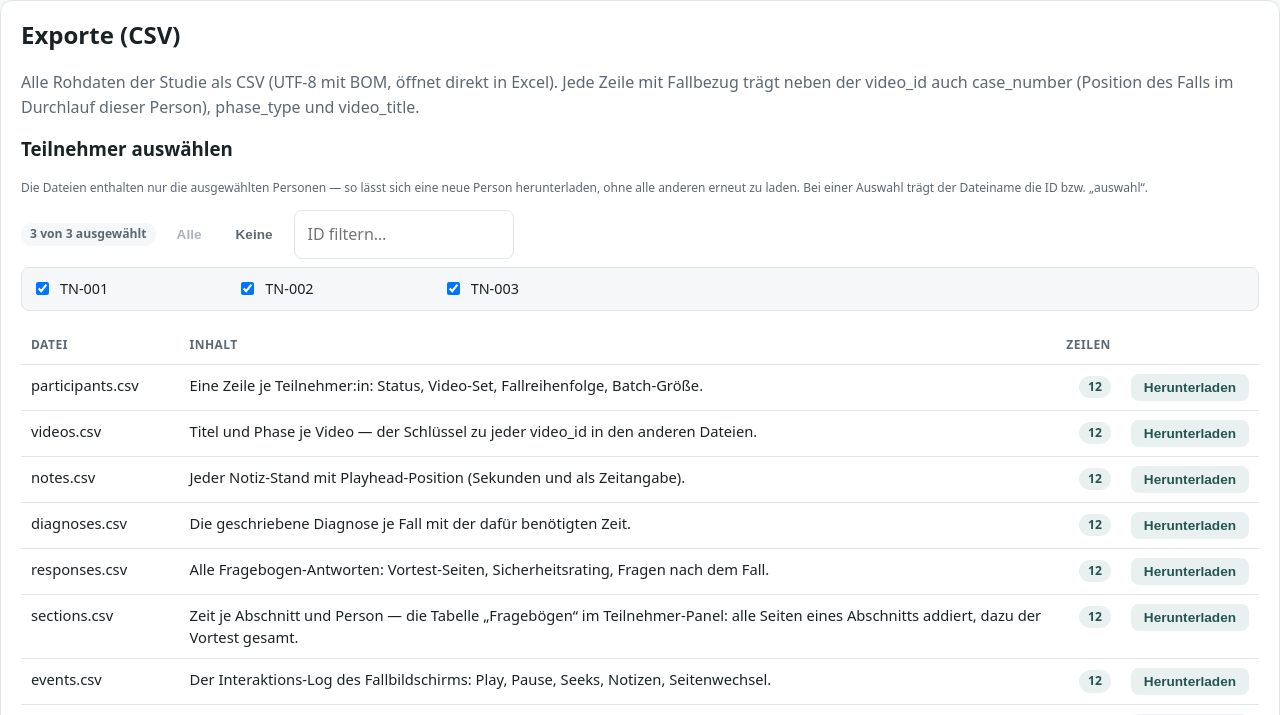
Test case: the id filter narrows the list without changing the selection
The width and height of the screenshot is (1280, 715).
Expected: the checkbox labelled "TN-003" is checked, [447, 282, 460, 295]
Type "003" into the field named "Teilnehmer-IDs filtern" at [404, 234], box [294, 210, 514, 259]
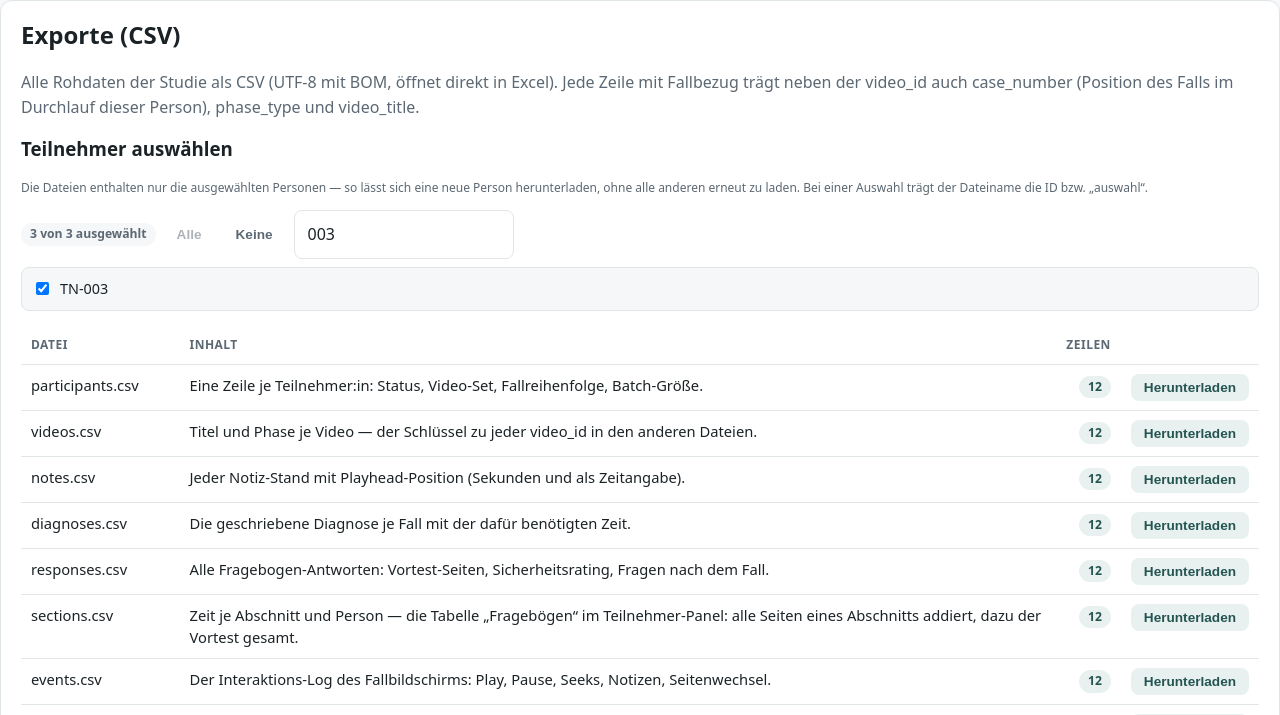
Expected: the checkbox labelled "TN-003" is checked, [36, 282, 49, 295]
Result: the text labelled "TN-001" is gone
